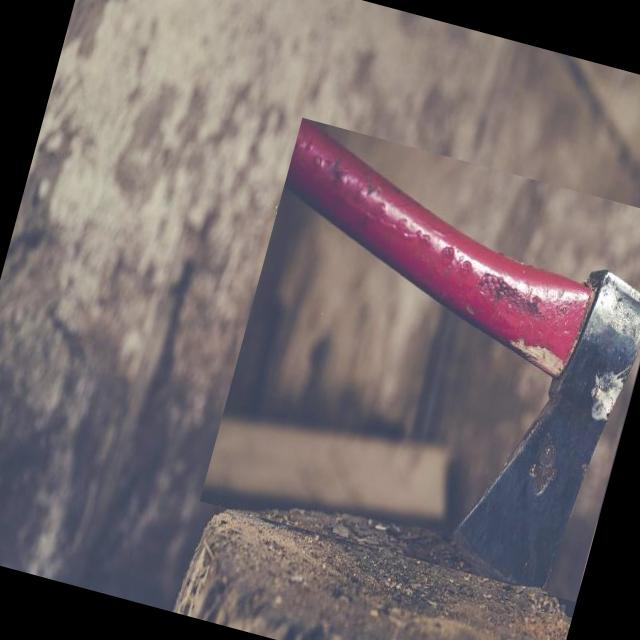Axe: (284, 118, 640, 587)
